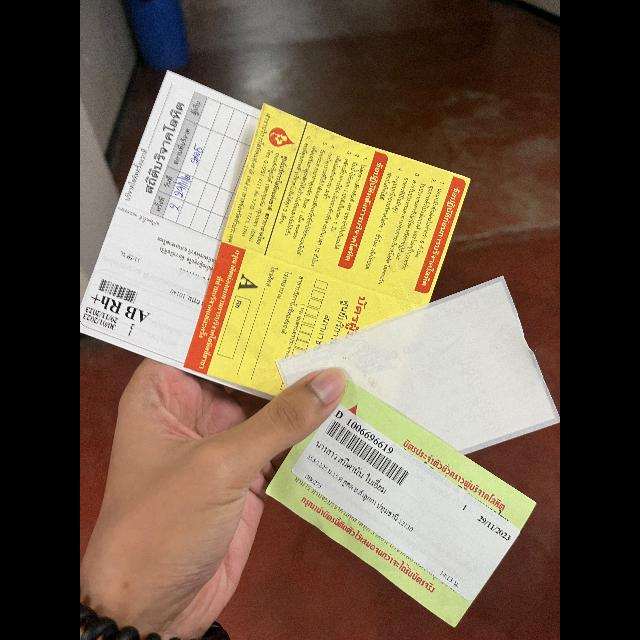scrap_paper: (193, 104, 473, 396), (267, 386, 535, 626), (80, 64, 266, 366), (284, 274, 560, 451)
